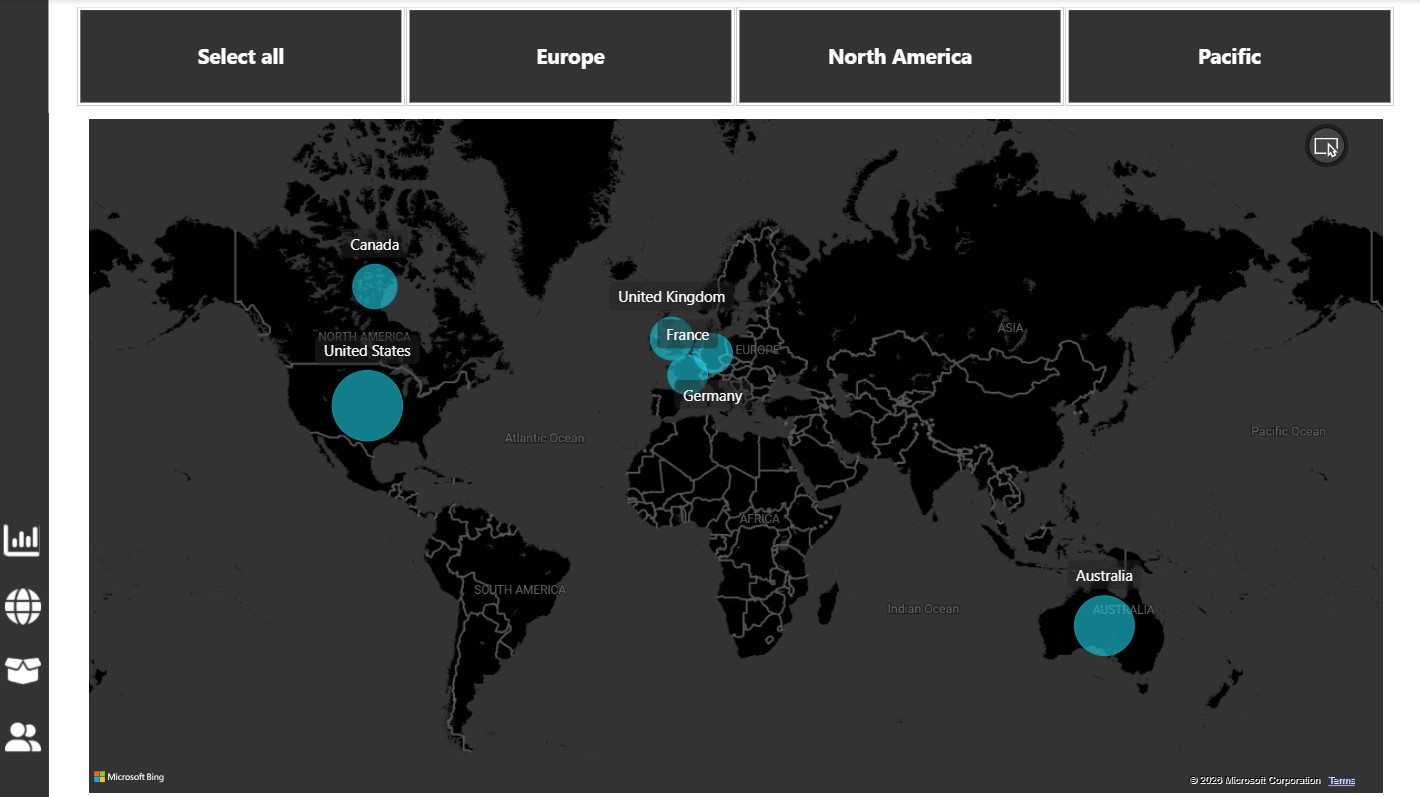

Layout of this report page (visuals, bound fields, positions):
{"tool":"powerbi","page":{"name":"Map","canvas":[1280,720],"ordinal":1},"visuals":[{"type":"shape","box":[0,0,45,720.6],"z":0},{"type":"map","fields":{"Category":["Territory Lookup.Country"],"Size":["Measure Table.Total Orders"]},"box":[75.7,102.7,1176,617.7],"z":1000},{"type":"actionButton","box":[0,467.7,59.5,40.6],"z":1000,"group":"g1"},{"type":"slicer","fields":{"Values":["Territory Lookup.Continent"]},"box":[44.3,0,1235.7,102.9],"z":2000},{"type":"actionButton","box":[1.4,527.2,59.5,40.6],"z":2000,"group":"g1"},{"type":"group","id":"g1","title":"Navigations Buttons","box":[0,467.7,60.8,217.6],"z":3000},{"type":"actionButton","box":[1.4,585.3,59.5,40.6],"z":3000,"group":"g1"},{"type":"actionButton","box":[1.4,644.8,59.5,40.6],"z":4000,"group":"g1"}]}

Visuals, with their boxes on the page's 1280x720 design canvas (x1, y1, x2, y2). These are canvas units, not pixel positions in the 1420x797 screenshot, which may show the page scaled, cropped or inside an application window:
shape: 0/0/45/721
map - Territory Lookup.Country x Measure Table.Total Orders: 76/103/1252/720
actionButton: 0/468/60/508
slicer - Territory Lookup.Continent: 44/0/1280/103
actionButton: 1/527/61/568
"Navigations Buttons" group: 0/468/61/685
actionButton: 1/585/61/626
actionButton: 1/645/61/685
